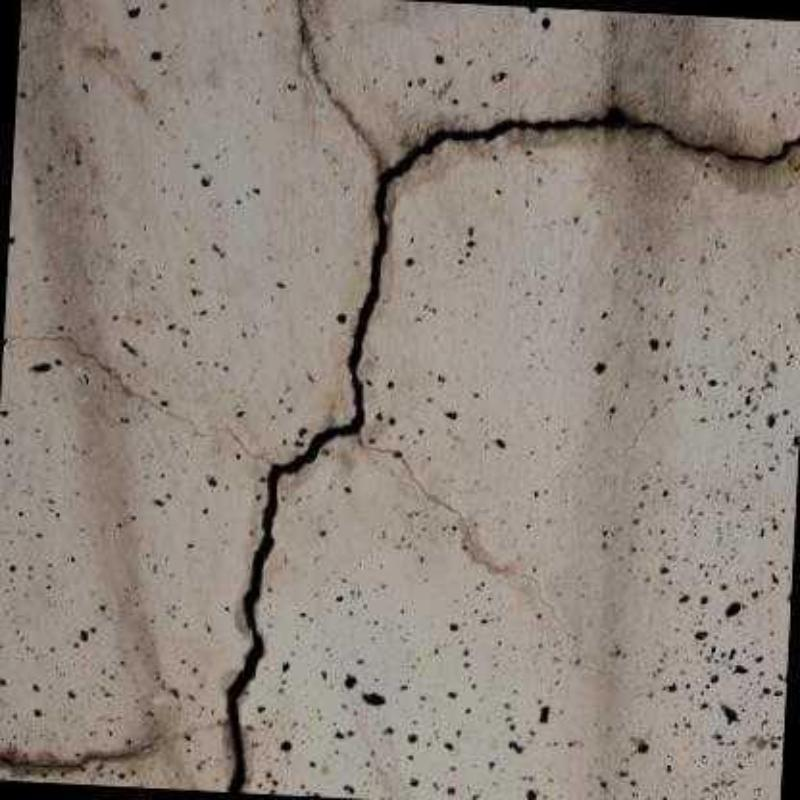crack: (223, 99, 798, 792), (354, 431, 562, 625), (6, 331, 273, 465), (294, 0, 381, 167), (0, 731, 171, 773)
